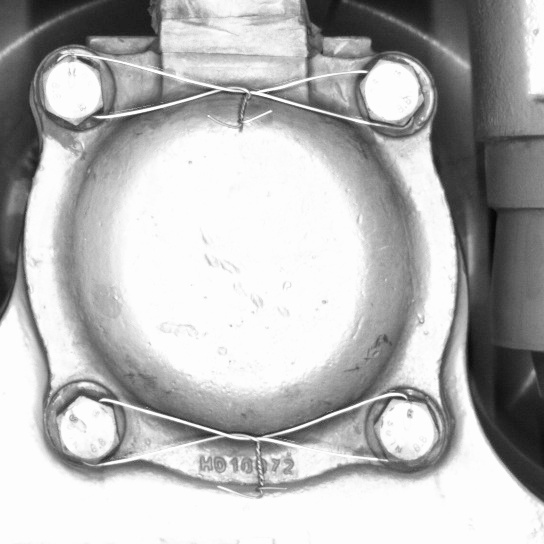IronWire: (46, 375, 456, 474), (33, 43, 439, 137)
Screw: (366, 374, 454, 473), (45, 375, 129, 471), (33, 43, 118, 133), (357, 53, 438, 138)
